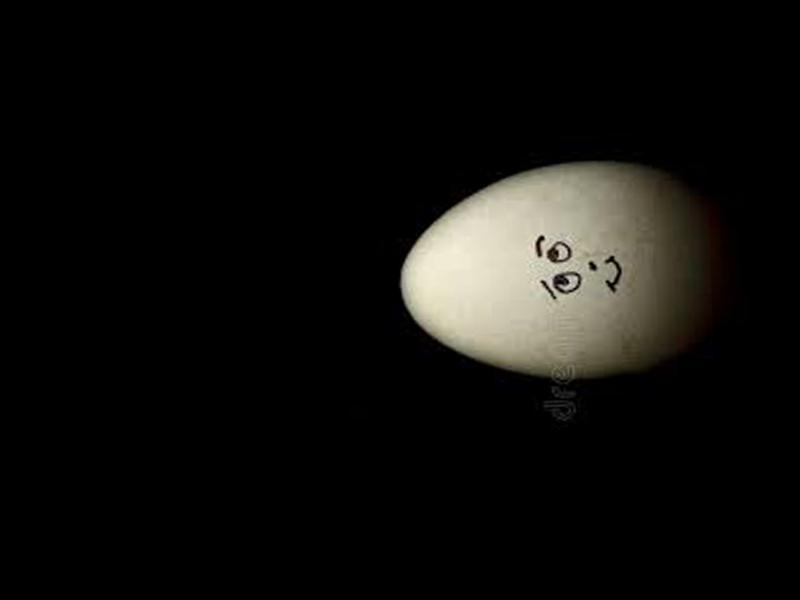Eggs: (395, 158, 723, 383)
